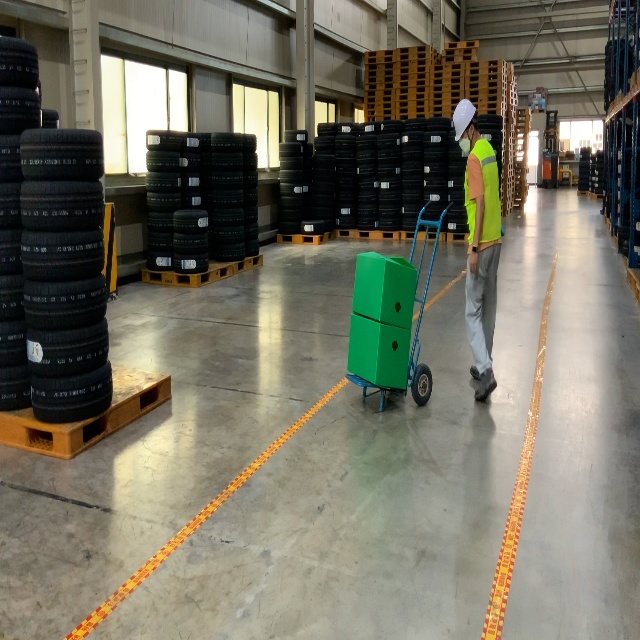Box: (351, 251, 418, 330), (346, 313, 412, 391)
Worker: (452, 98, 503, 403)
